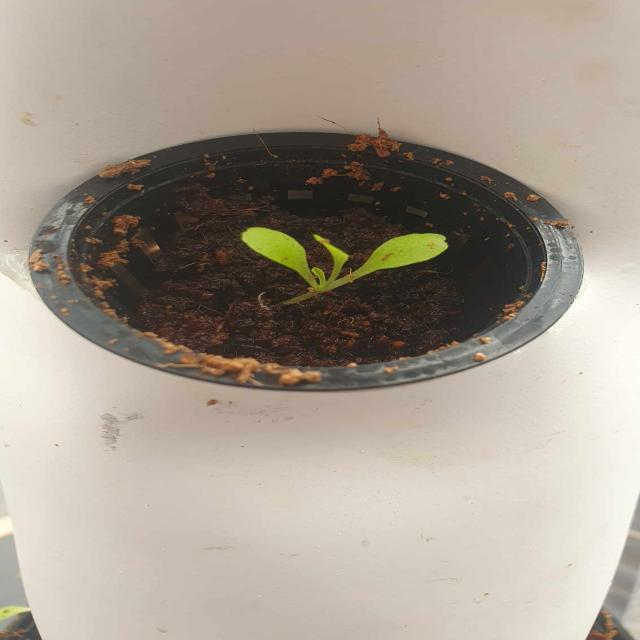Lettuce-Not-Ready-to-Harvest: (235, 197, 449, 308)
